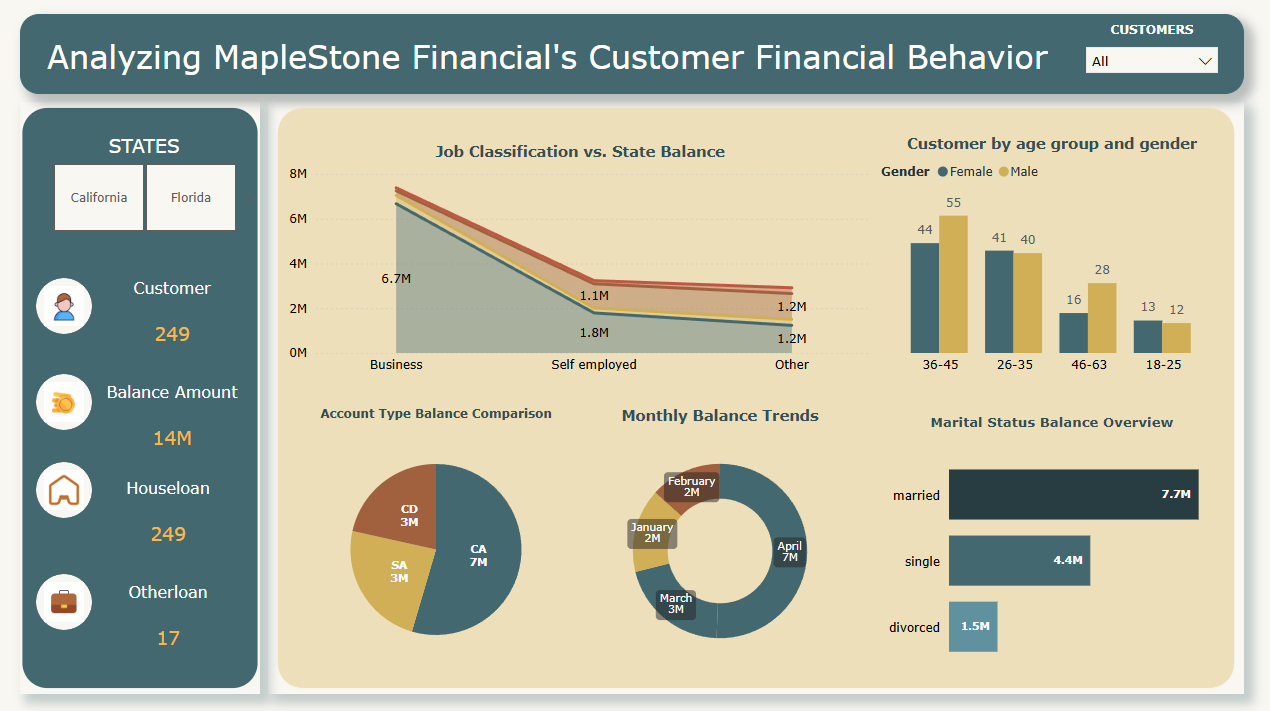

This screenshot's page, from the dashboard's own definition file:
{"tool":"powerbi","page":{"name":"Bank_insights","canvas":[1280,720],"ordinal":0},"visuals":[{"type":"basicShape","box":[24,104,240,592],"z":0},{"type":"textbox","box":[24,16,1224,80],"z":1000},{"type":"basicShape","box":[272,104,976,592],"z":2000},{"type":"pieChart","title":"Account Type Balance Comparison","fields":{"Category":["Customer_Bank Details.Account Type"],"Y":["Sum(Customer_Bank Details.Balance Amount)"]},"box":[288,408,304,272],"z":4000},{"type":"stackedAreaChart","title":"Job Classification vs. State Balance","fields":{"Category":["Customer_Bank Details.Job Classification"],"Y":["Sum(Customer_Bank Details.Balance Amount)"],"Series":["Customer_Bank Details.State"]},"box":[288,144,592,240],"z":5000},{"type":"barChart","title":"Marital Status Balance Overview","fields":{"Category":["Customer_Bank Details.Marital Status "],"Y":["Sum(Customer_Bank Details.Balance Amount)"]},"box":[880,416,352,272],"z":6000},{"type":"card","title":"Customer","fields":{"Values":["Count(Customer_Bank Details.Customer ID)"]},"box":[104,280,144,96],"z":7000},{"type":"card","title":"Balance Amount","fields":{"Values":["Sum(Customer_Bank Details.Balance Amount)"]},"box":[104,384,144,96],"z":8000},{"type":"card","title":"Houseloan ","fields":{"Values":["CountNonNull(Customer_Bank Details.Houseloan)"]},"box":[96,480,152,96],"z":9000},{"type":"card","title":"Otherloan","fields":{"Values":["CountNonNull(Customer_Bank Details.Otherloan)"]},"box":[96,584,152,96],"z":10000},{"type":"slicer","title":"STATES","fields":{"Values":["Customer_Bank Details.State"]},"box":[32,136,232,104],"z":11000},{"type":"slicer","title":"CUSTOMERS","fields":{"Values":["Customer_Bank Details.Customer Name"]},"box":[1080,24,152,64],"z":12000},{"type":"clusteredColumnChart","title":"Customer  by age group and gender","fields":{"Category":["Customer_Bank Details.Age Group"],"Y":["CountNonNull(Customer_Bank Details.Customer ID)"],"Series":["Customer_Bank Details.Gender"]},"box":[880,136,352,248],"z":13000},{"type":"donutChart","title":"Monthly Balance Trends","fields":{"Category":["Customer_Bank Details.Month Name"],"Y":["Sum(Customer_Bank Details.Balance Amount)"]},"box":[560,408,328,272],"z":14000},{"type":"actionButton","box":[40,280,56,56],"z":15000},{"type":"actionButton","box":[40,576,56,56],"z":16000},{"type":"actionButton","box":[40,464,56,56],"z":17000},{"type":"actionButton","box":[40,376,56,56],"z":18000}]}

Visuals, with their boxes in screenshot pixels (x1, y1, x2, y2), scaled from the page's 1280x720 canvas onto the 1270x711 screenshot:
basicShape: detection(24, 103, 262, 687)
textbox: detection(24, 16, 1238, 95)
basicShape: detection(270, 103, 1238, 687)
"Account Type Balance Comparison" pieChart: detection(286, 403, 587, 672)
"Job Classification vs. State Balance" stackedAreaChart: detection(286, 142, 873, 379)
"Marital Status Balance Overview" barChart: detection(873, 411, 1222, 679)
"Customer" card: detection(103, 276, 246, 371)
"Balance Amount" card: detection(103, 379, 246, 474)
"Houseloan " card: detection(95, 474, 246, 569)
"Otherloan" card: detection(95, 577, 246, 672)
"STATES" slicer: detection(32, 134, 262, 237)
"CUSTOMERS" slicer: detection(1072, 24, 1222, 87)
"Customer  by age group and gender" clusteredColumnChart: detection(873, 134, 1222, 379)
"Monthly Balance Trends" donutChart: detection(556, 403, 881, 672)
actionButton: detection(40, 276, 95, 332)
actionButton: detection(40, 569, 95, 624)
actionButton: detection(40, 458, 95, 514)
actionButton: detection(40, 371, 95, 427)
